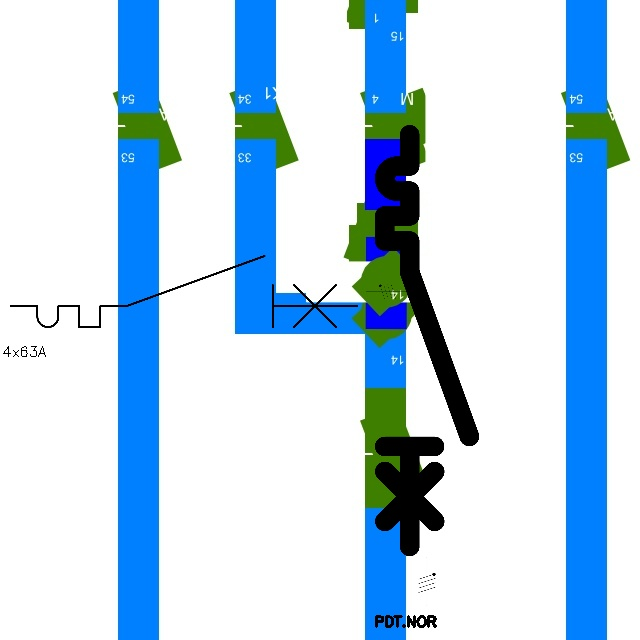interruptor_termomagnetico: (374, 124, 480, 557), (2, 247, 366, 336)
